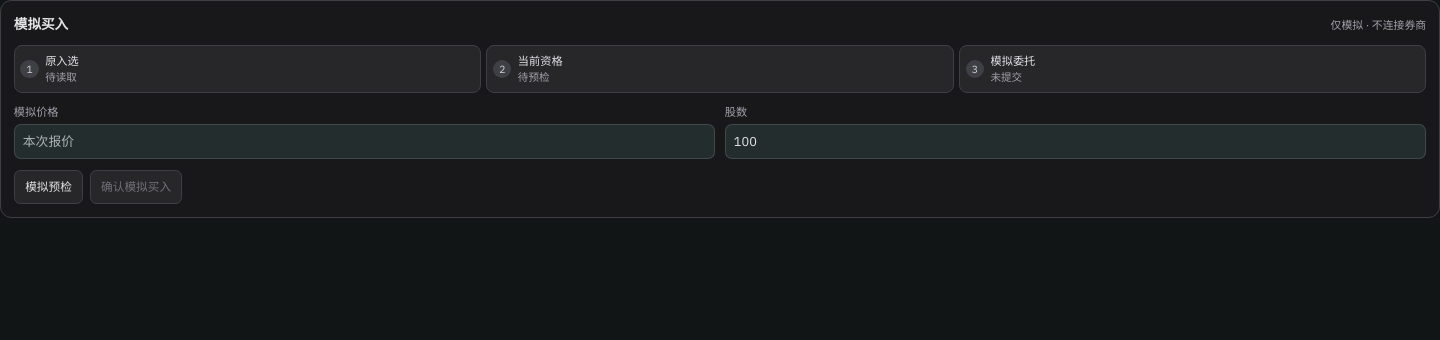
A→B→A input does not let a late old allowed response revive the preflight
Click the button "模拟预检" at (49, 187), box [14,170,83,204]
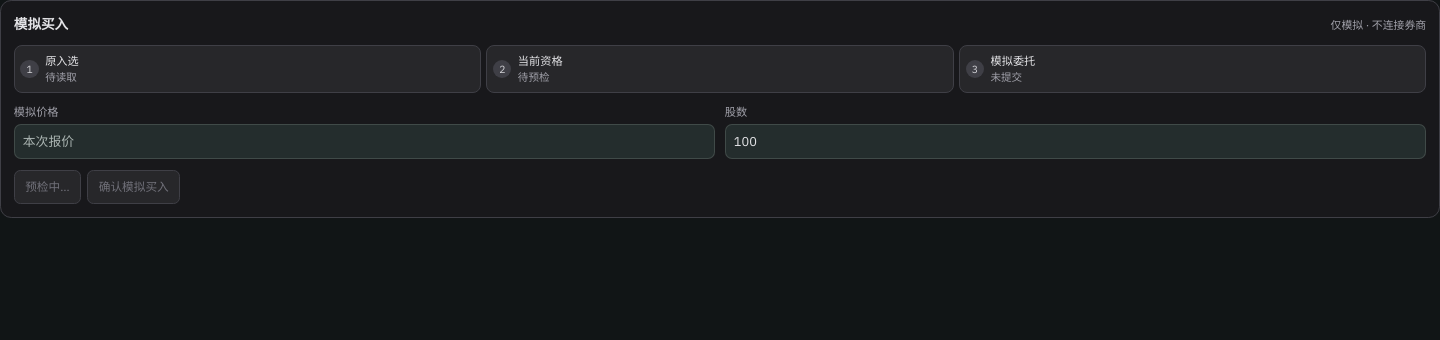
Replace the text in the number field named "模拟股数" with "200" at (1076, 142), box [725,124,1426,159]
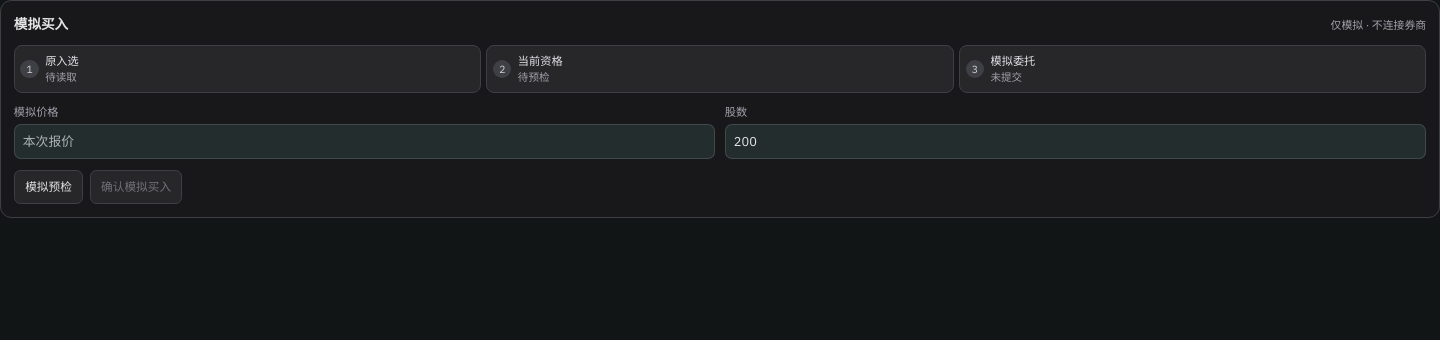
Replace the text in the number field named "模拟股数" with "100" at (1076, 142), box [725,124,1426,159]
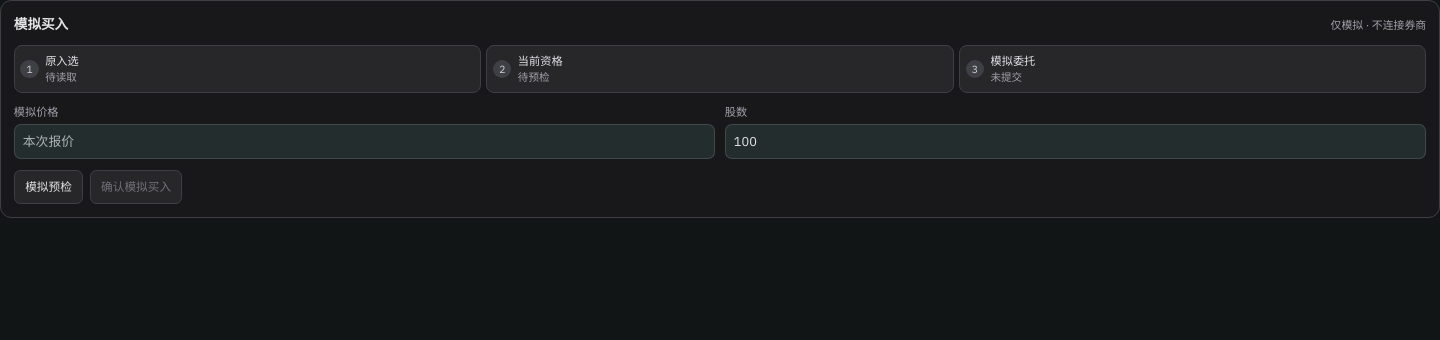
Expected: the button "确认模拟买入" is disabled, [90,170,182,204]
Click the button "模拟预检" at (49, 187), box [14,170,83,204]
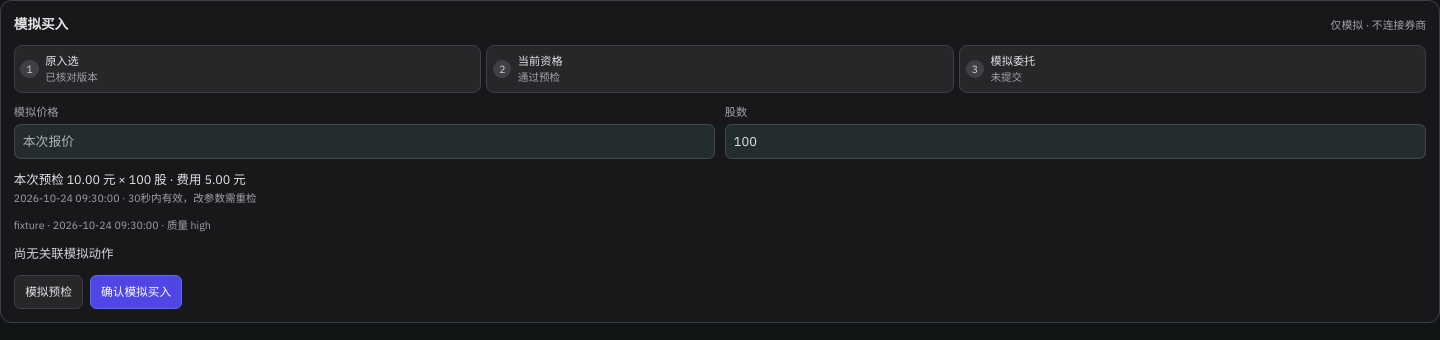
Now the button "确认模拟买入" is enabled, box [90,275,182,309]
